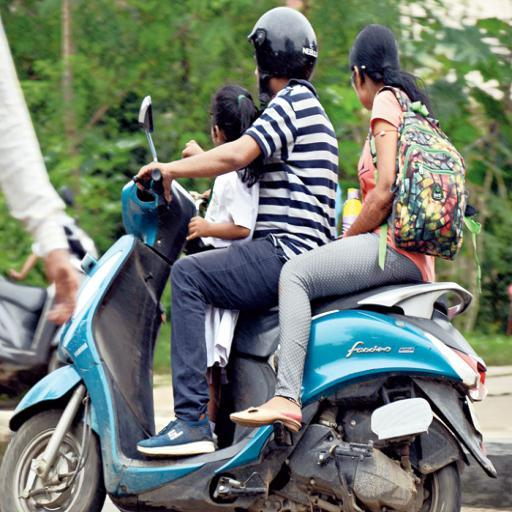helmet: (223, 0, 324, 198)
triple riding: (152, 25, 458, 290)
